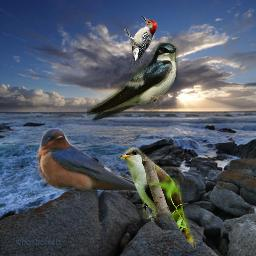Cuckoo: (116, 147, 201, 249)
Swallow: (36, 128, 176, 200), (87, 42, 178, 122)
Woodpecker: (122, 14, 159, 68)
